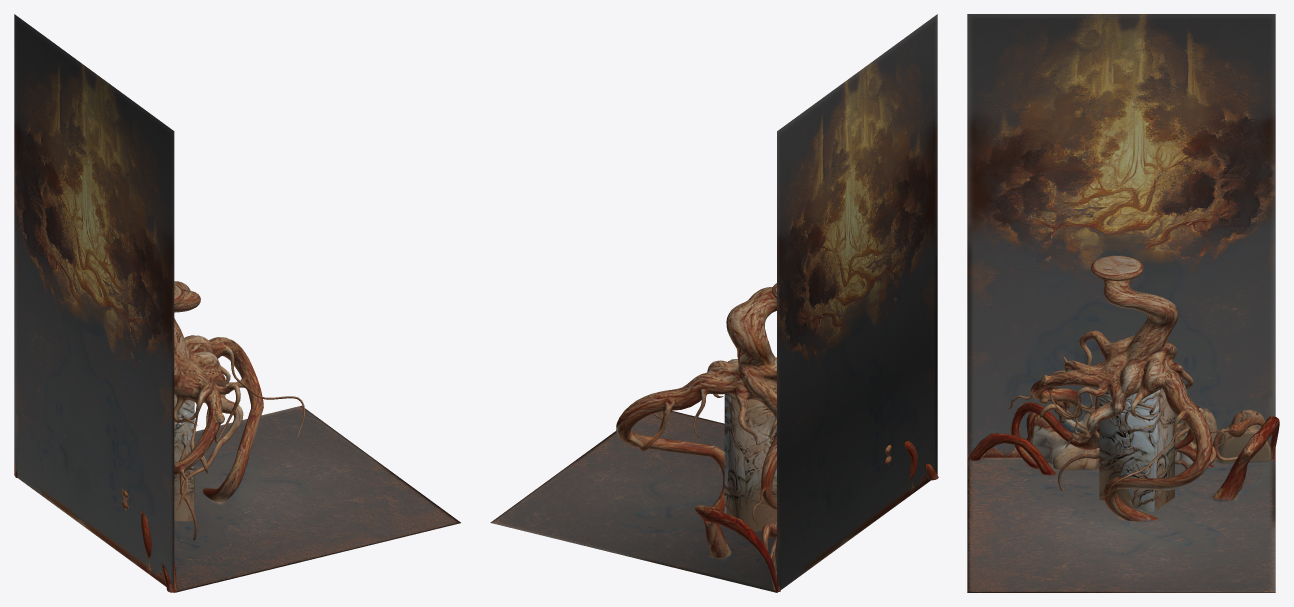
File: world.glb
3 renders of one model, left to right at view 1: azimuth 30°, elevation 25°; view 2: azimuth 150°, elevation 25°; view 3: azimuth 270°, elevation 25°, orthographic. The views are drawn at different scales.
Visible parts, largest first — view 1: tripo_node_3d27a33f-e977-4fc6-a3c9-1800b547338d; view 2: tripo_node_3d27a33f-e977-4fc6-a3c9-1800b547338d; view 3: tripo_node_3d27a33f-e977-4fc6-a3c9-1800b547338d.
Boxes of the visible parts, x1,y1,x2,y2 form: tripo_node_3d27a33f-e977-4fc6-a3c9-1800b547338d: [14, 14, 460, 592]; tripo_node_3d27a33f-e977-4fc6-a3c9-1800b547338d: [490, 14, 938, 592]; tripo_node_3d27a33f-e977-4fc6-a3c9-1800b547338d: [967, 14, 1279, 592].
Bounding box in the file's own units: 0.6629 × 0.9995 × 0.6376.
1 material, 1 textured.
